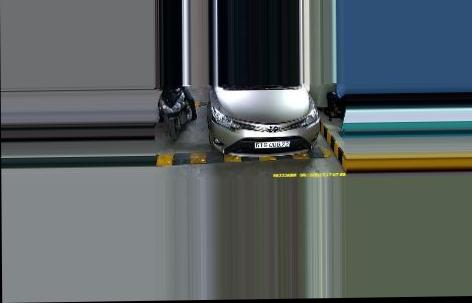License_Plate: (251, 137, 293, 150)
